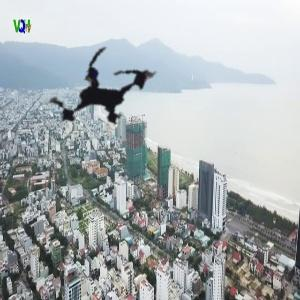drone: (8, 1, 198, 191)
